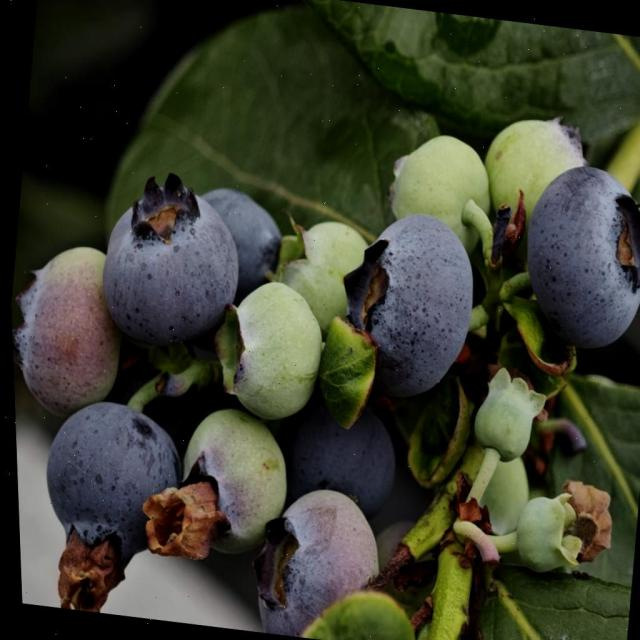RipeBlueBerry: (339, 211, 484, 409), (33, 397, 188, 577), (92, 174, 247, 353), (512, 157, 640, 357)
Semi-RipeBlueBerry: (247, 475, 384, 640), (7, 244, 124, 412)
